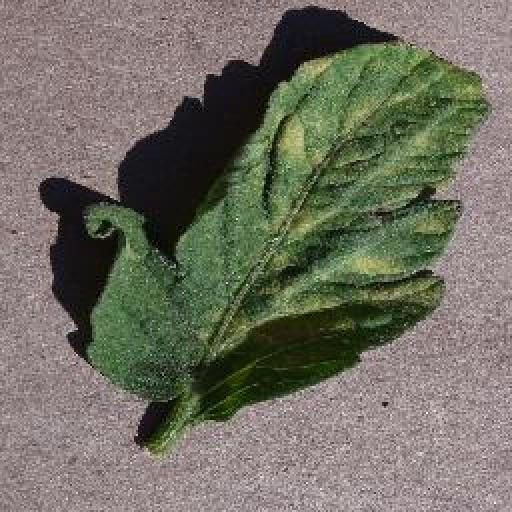Leaf Mold: (83, 39, 491, 425)
